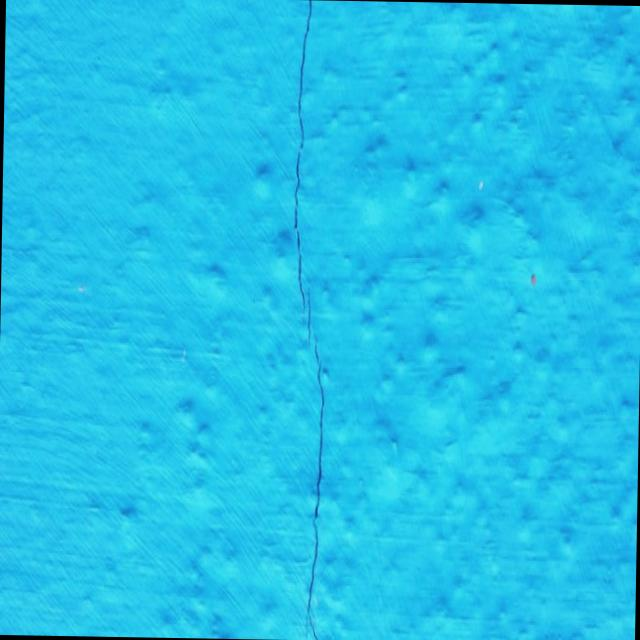crack: (271, 0, 354, 640)
